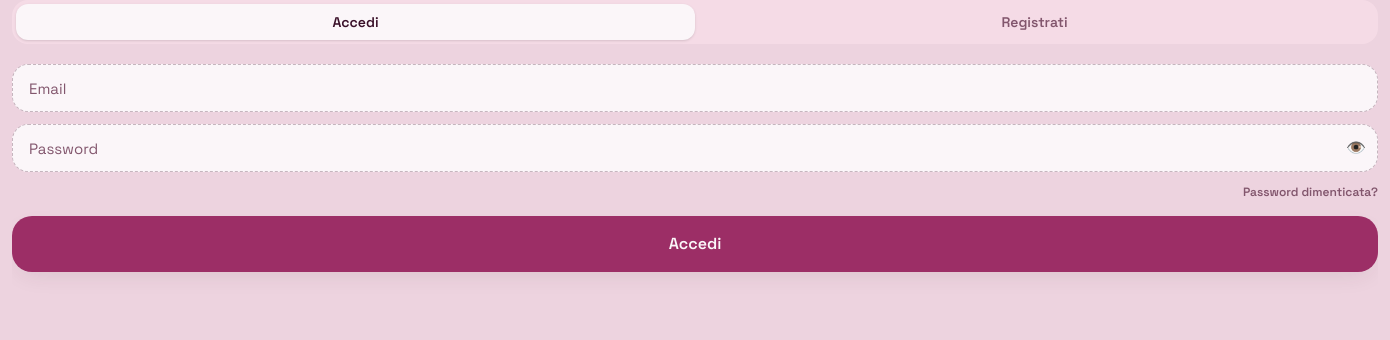
LoginForm — registrazione › se serve confermare l'email, mostra un messaggio inequivocabile (non 'se richiesto')
This screenshot has width=1390, height=340.
Click the button "Registrati".
click(1034, 22)  # box top-left (695, 4), bottom-right (1374, 40)
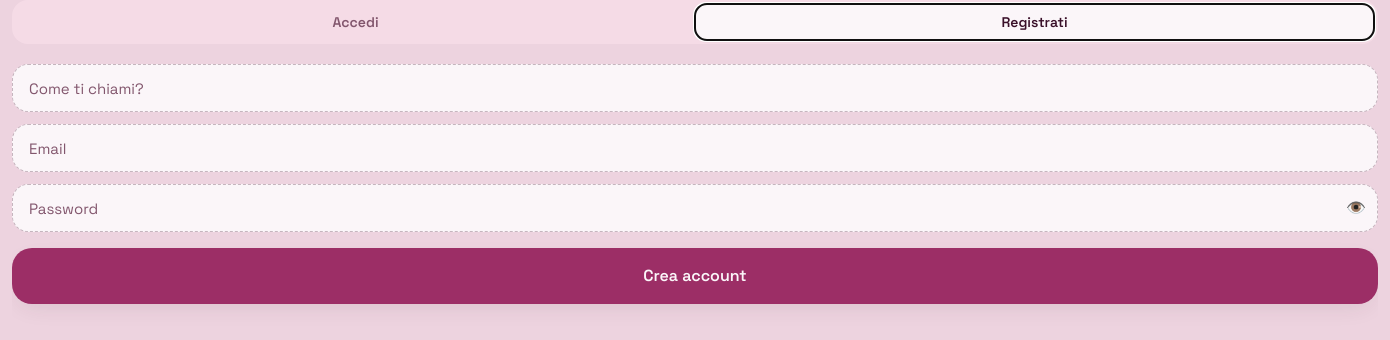
Type "Anna" into the field with placeholder "Come ti chiami?".
click(695, 88); type("Anna")  # box top-left (12, 64), bottom-right (1378, 112)
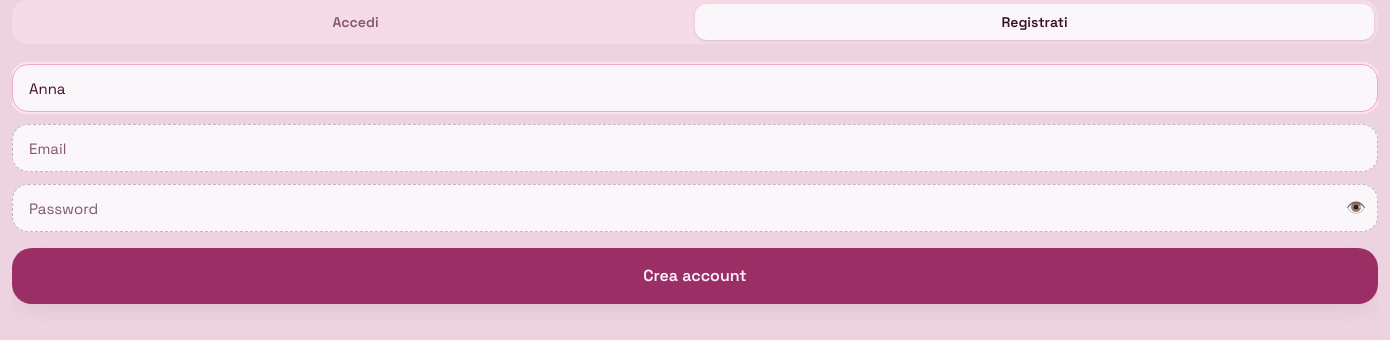
Type "a@b.com" into the field with placeholder "Email".
click(695, 148); type("a@b.com")  # box top-left (12, 124), bottom-right (1378, 172)
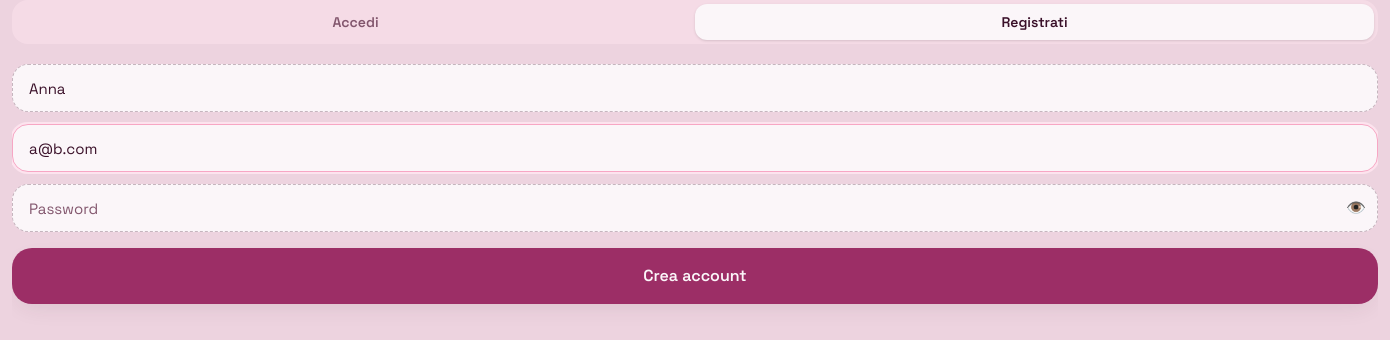
Type "Secret123" into the password field with placeholder "Password".
click(695, 208); type("Secret123")  # box top-left (12, 184), bottom-right (1378, 232)
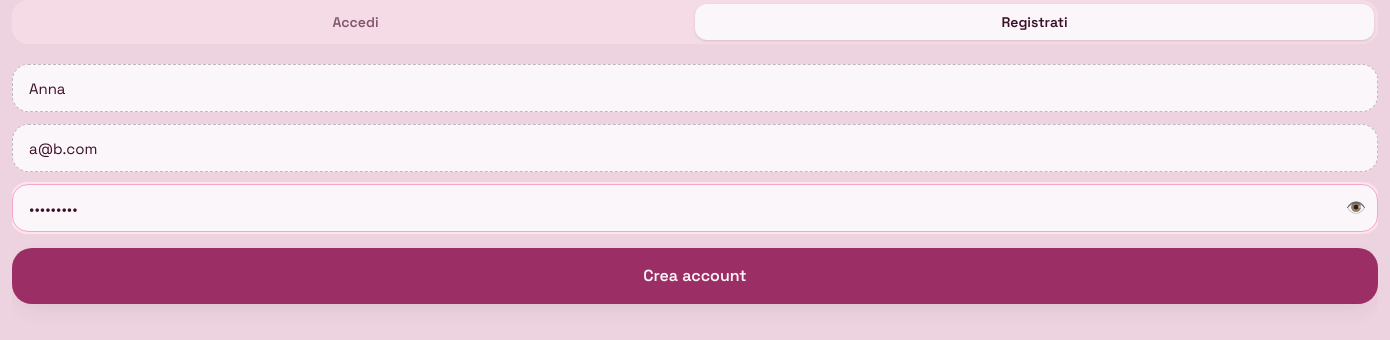
Click the button "Crea account".
click(695, 276)  # box top-left (12, 248), bottom-right (1378, 304)
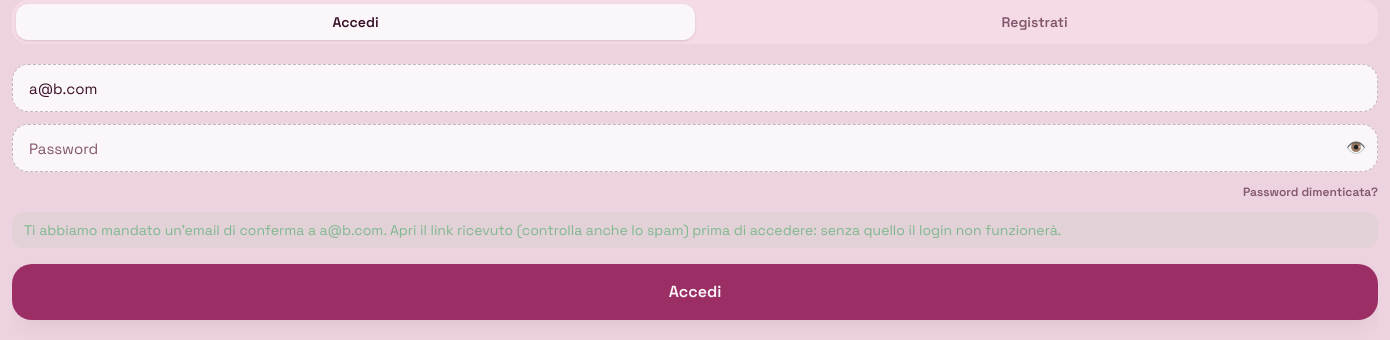
Expected: the field with placeholder "Come ti chiami?" is not shown
Now the text "Ti abbiamo mandato un'email di conferma a a@b.com. Apri il link ricevuto (controlla anche lo spam) prima di accedere: se" is shown, box top-left (24, 221), bottom-right (1061, 239)
